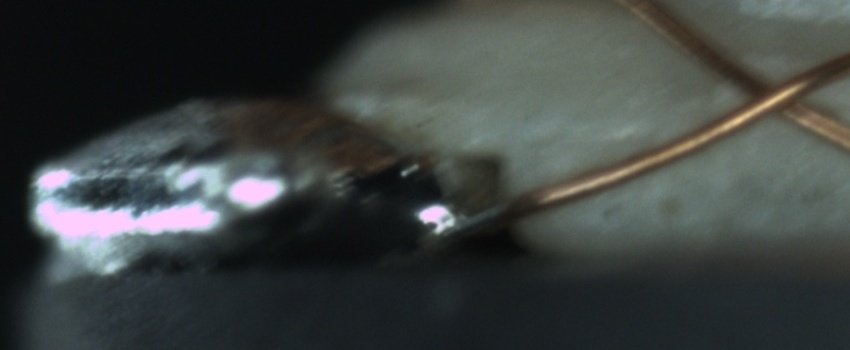CL: (711, 48, 839, 133)
